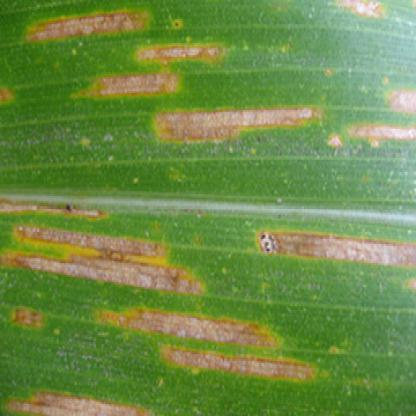Corn Gray leaf spot: (1, 3, 415, 414)
